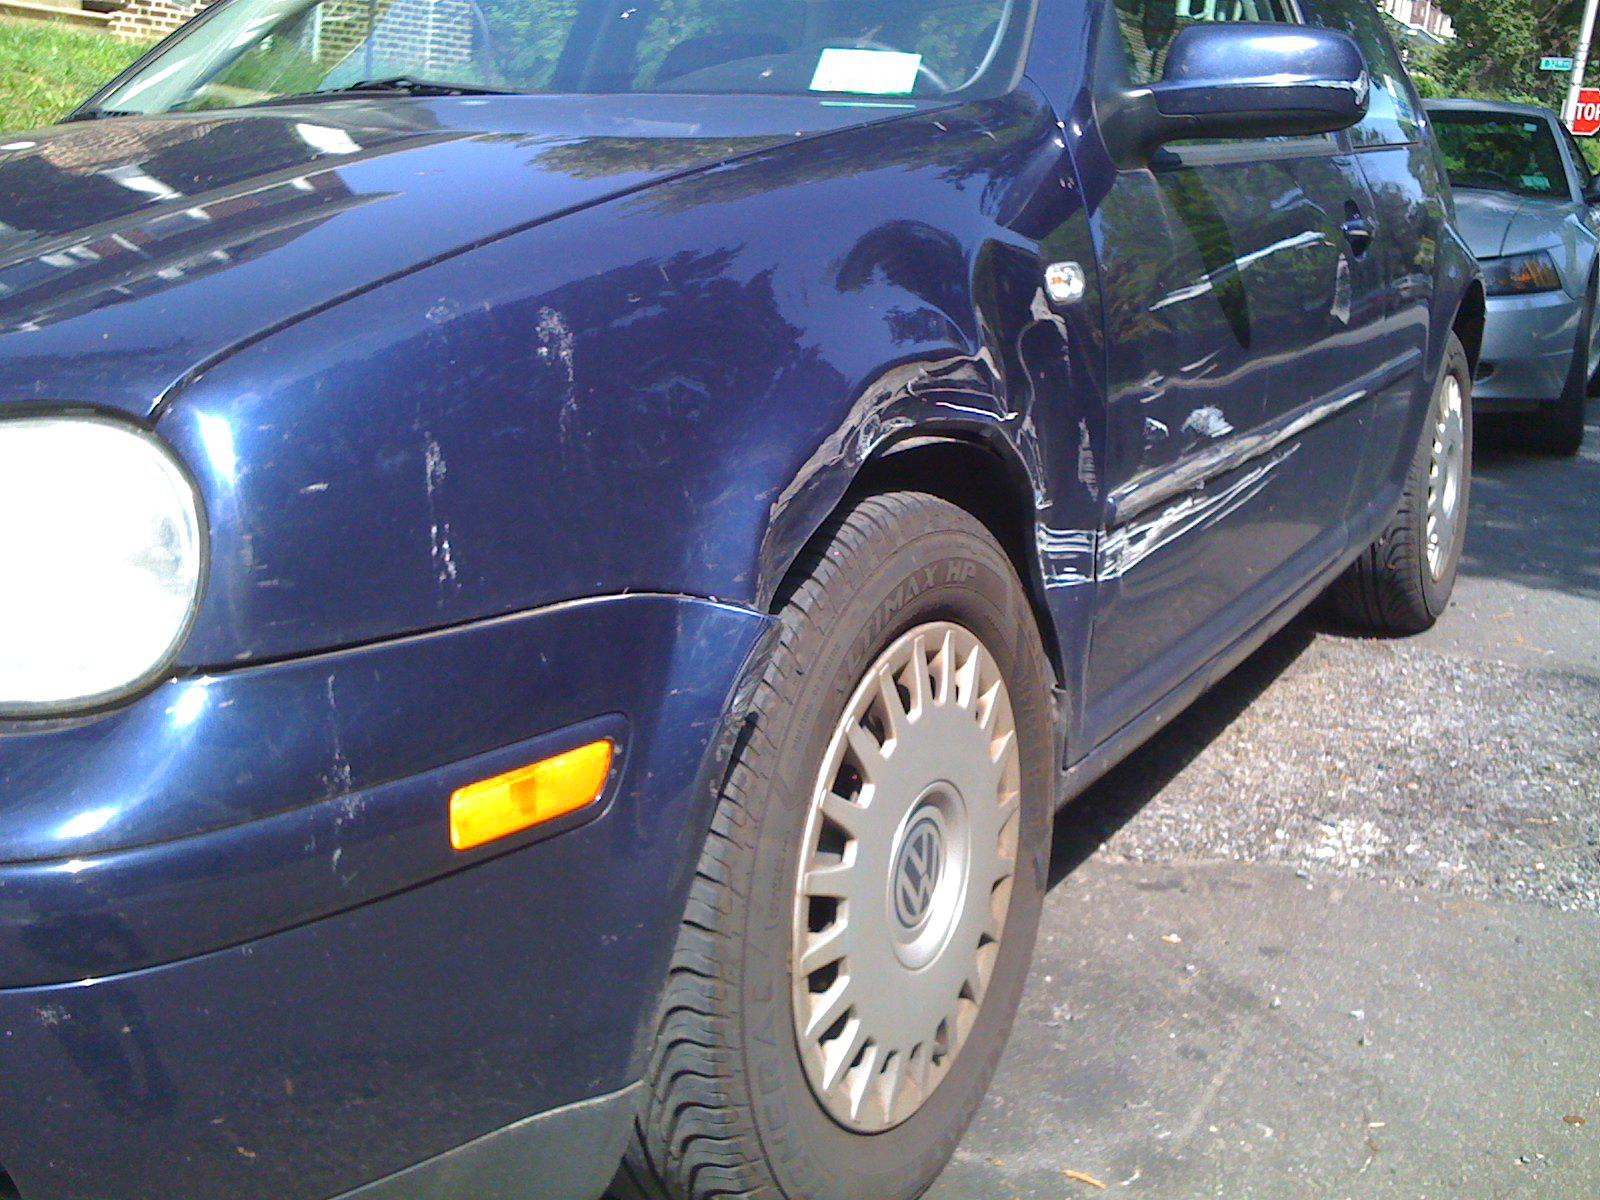fender-dent: (698, 197, 1120, 643)
